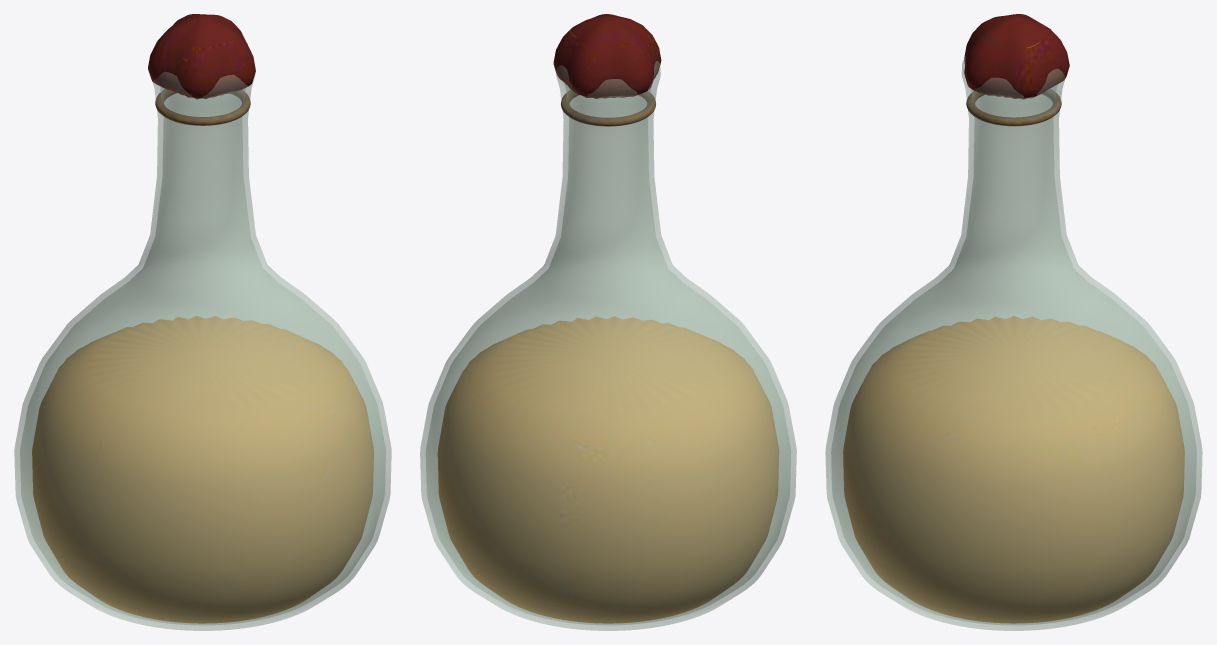
File: oxymel.glb
3 views of the same model, side by side, from view 1: azimuth 30°, elevation 25°; view 2: azimuth 150°, elevation 25°; view 3: azimuth 270°, elevation 25° (orthographic).
Visible parts, largest first — view 1: glass, oxymel; view 2: glass, oxymel; view 3: glass, oxymel.
Part boxes in pixels (x1,y1,x2,y2): glass: (14,72,391,630); oxymel: (32,14,373,623); glass: (420,61,796,630); oxymel: (437,14,779,623); glass: (825,57,1202,630); oxymel: (843,14,1184,623).
Size of the model in its own units: 0.1024 by 0.1737 by 0.1024.
Materials: 2 (1 with a texture image).
